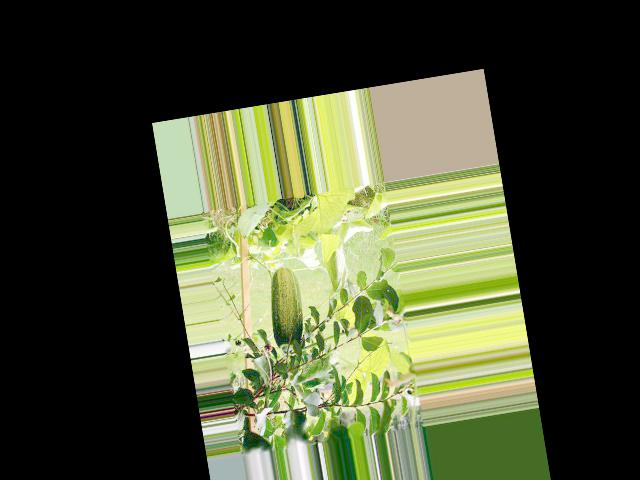cucumber: (262, 265, 309, 357)
